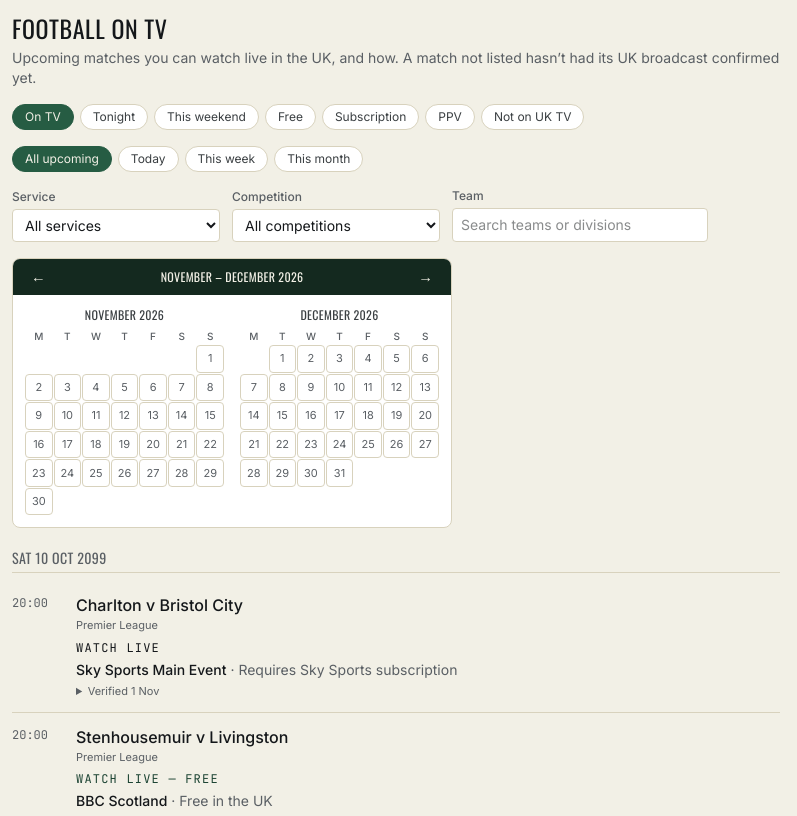
Test: TvGuidePage -- UK Watch Guide › quick filters: Free, PPV and Not on UK TV narrow the list; Clear restores it
Expected: the link "Charlton v Bristol City" is shown, [76, 596, 243, 616]
Click the button "Free": coordinates (290, 117) [265, 104, 316, 130]
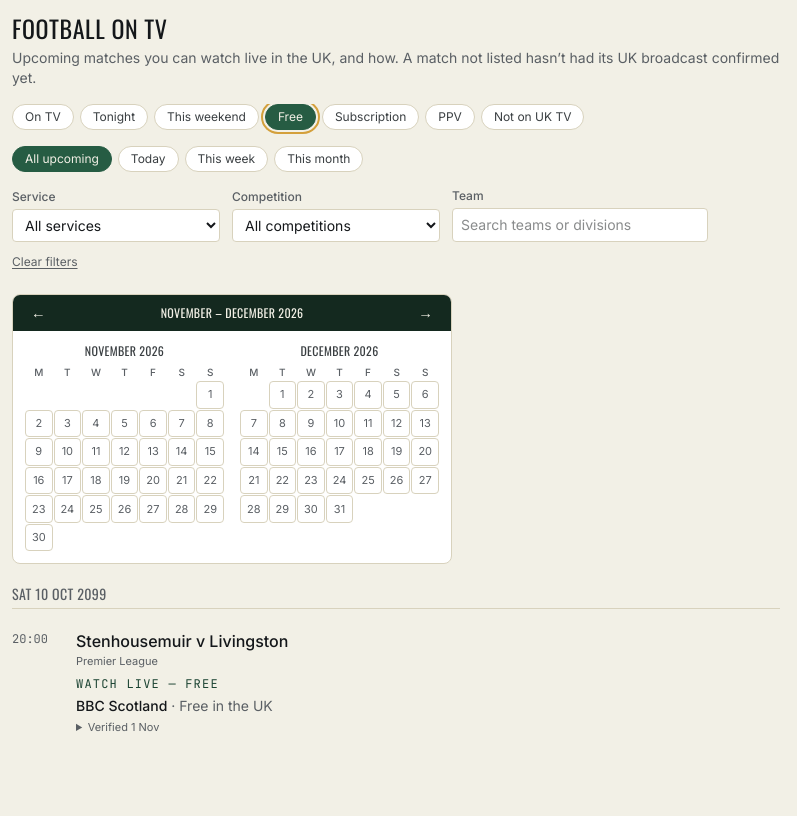
Expected: the link "Stenhousemuir v Livingston" is shown, [76, 632, 288, 652]
Expected: the link "Charlton v Bristol City" is gone
Click the button "PPV": coordinates (450, 117) [425, 104, 475, 130]
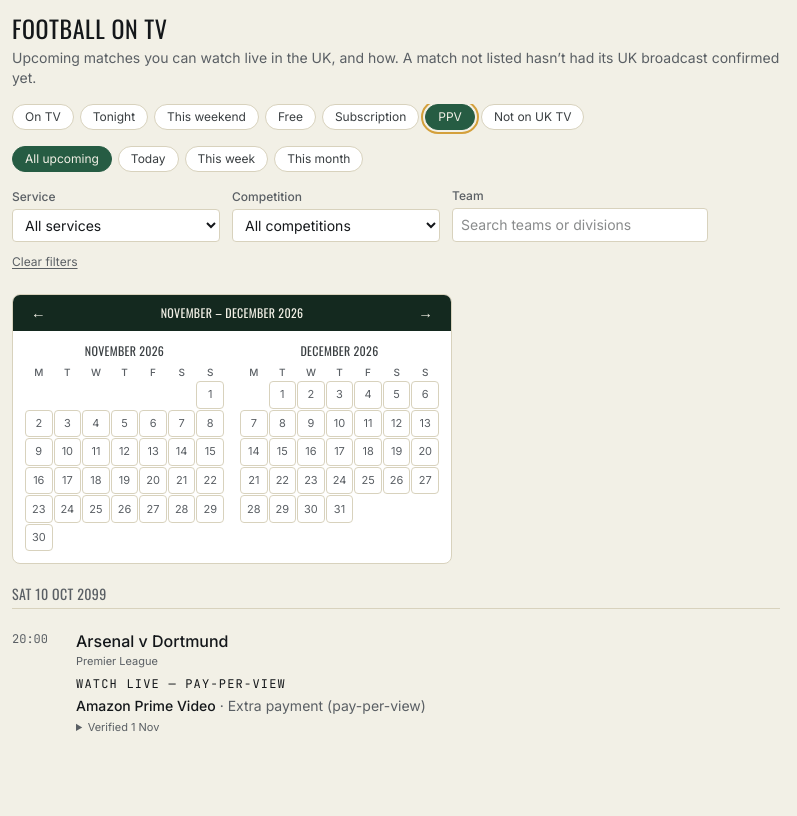
Expected: the link "Arsenal v Dortmund" is shown, [76, 632, 228, 652]
Expected: the link "Stenhousemuir v Livingston" is gone
Click the button "Not on UK TV": coordinates (533, 117) [481, 104, 584, 130]
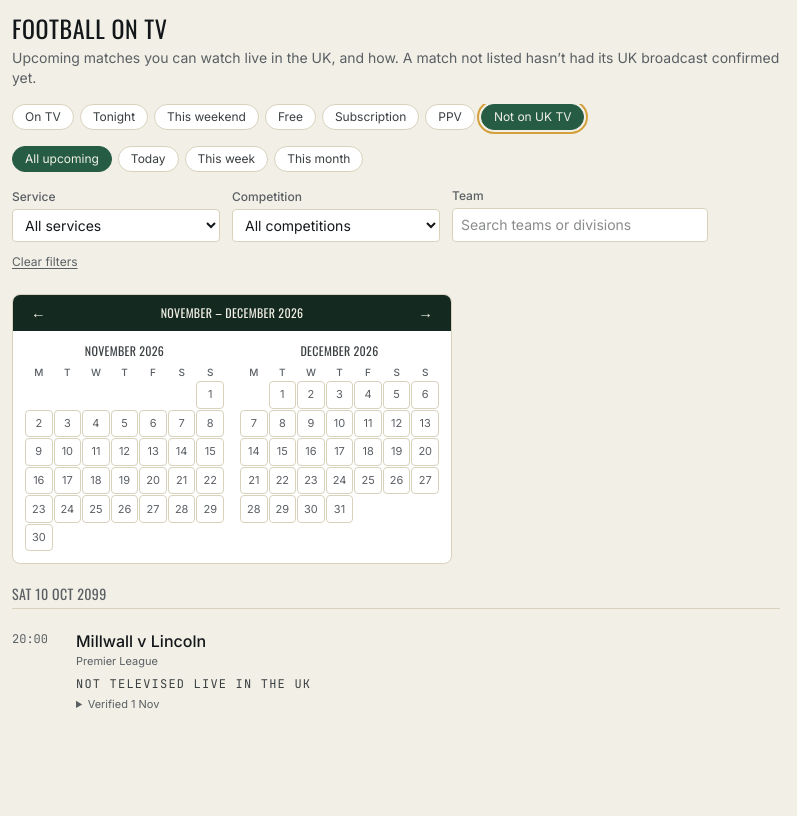
Expected: the link "Millwall v Lincoln" is shown, [76, 632, 206, 652]
Expected: the link "Arsenal v Dortmund" is gone
Click the button "Clear filters": coordinates (45, 262) [12, 254, 78, 270]
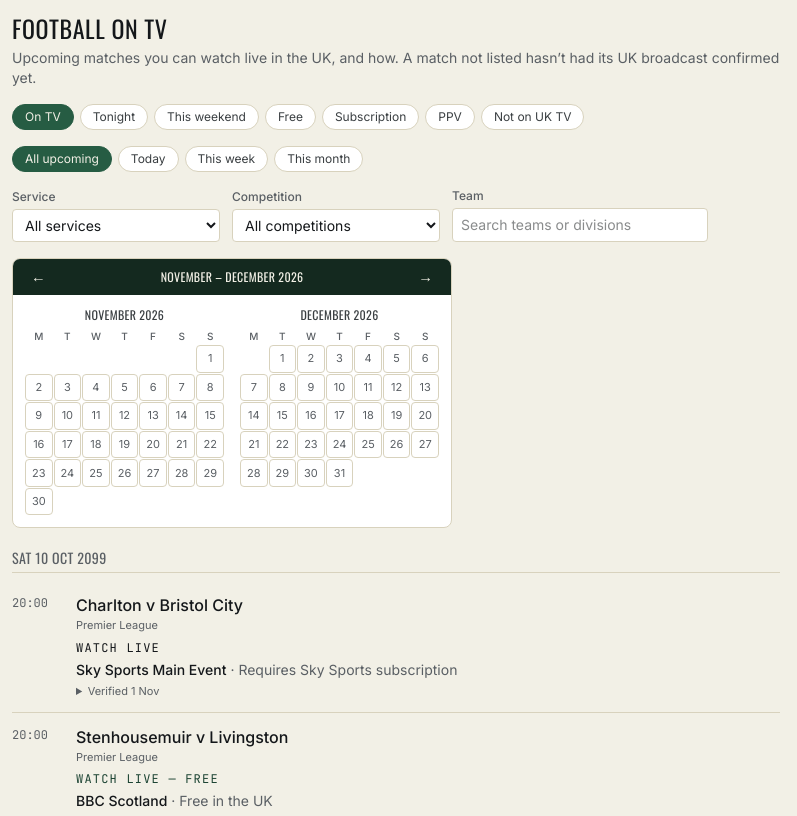
Expected: the number of links "Charlton v Bristol City" is 3
